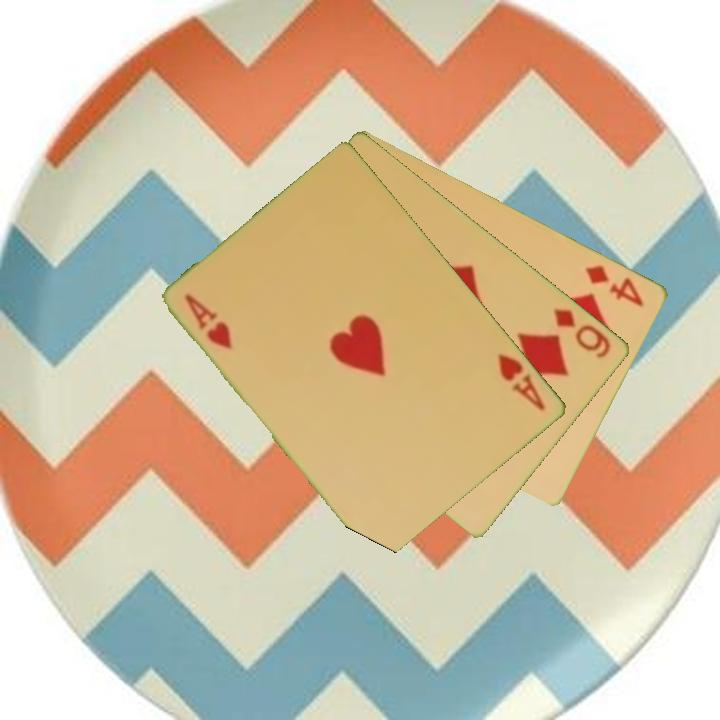4d: (582, 261, 647, 310)
6d: (550, 305, 615, 361)
Ah: (495, 349, 549, 414), (182, 290, 236, 353)
